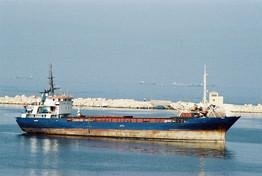Cargoship: (16, 61, 236, 144)
